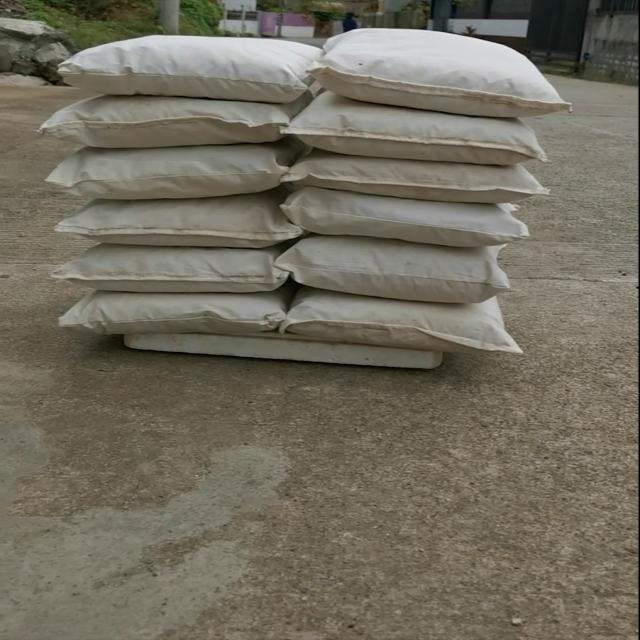Sack: (325, 23, 565, 121), (53, 32, 319, 110), (48, 135, 288, 207), (279, 186, 533, 254), (278, 285, 529, 353), (277, 105, 553, 166), (274, 240, 518, 309), (44, 92, 285, 157), (283, 144, 547, 200), (66, 195, 296, 255), (56, 288, 280, 343), (53, 251, 283, 298)
